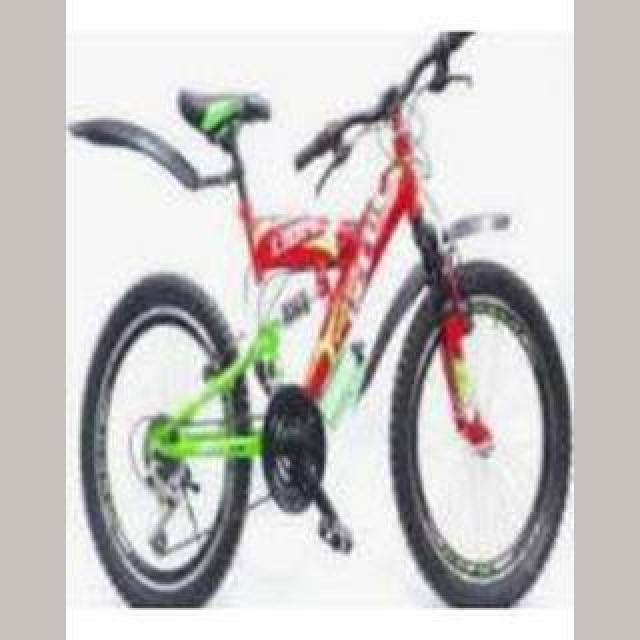Person: (66, 30, 574, 612)
